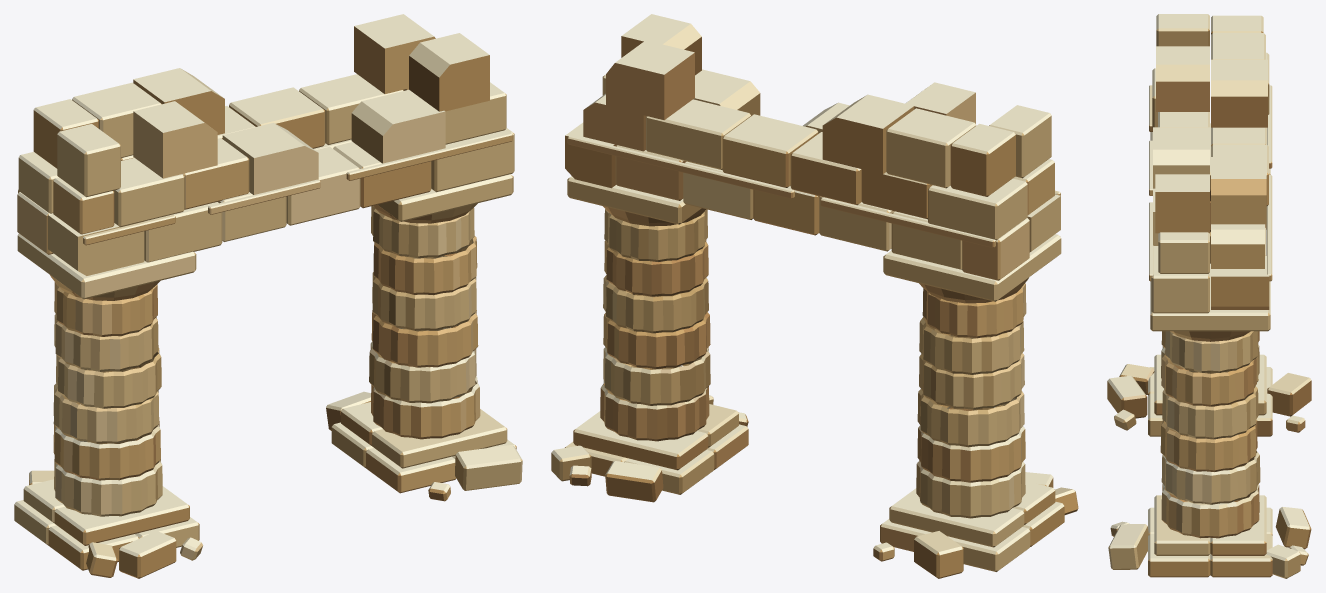
File: landmark.glb
3 views of the same model, side by side, from view 1: azimuth 30°, elevation 25°; view 2: azimuth 150°, elevation 25°; view 3: azimuth 270°, elevation 25° (orthographic). The views are drawn at different scales.
Parts seen in each view (by area): view 1: gateway; view 2: gateway; view 3: gateway.
Boxes of the visible parts, box(x1,y1,x2,y2) form: gateway: box(14, 14, 522, 578); gateway: box(551, 14, 1078, 578); gateway: box(1107, 14, 1311, 578).
Size of the model in its own units: 44.57 by 40.08 by 19.64.
1 material, 1 textured.
